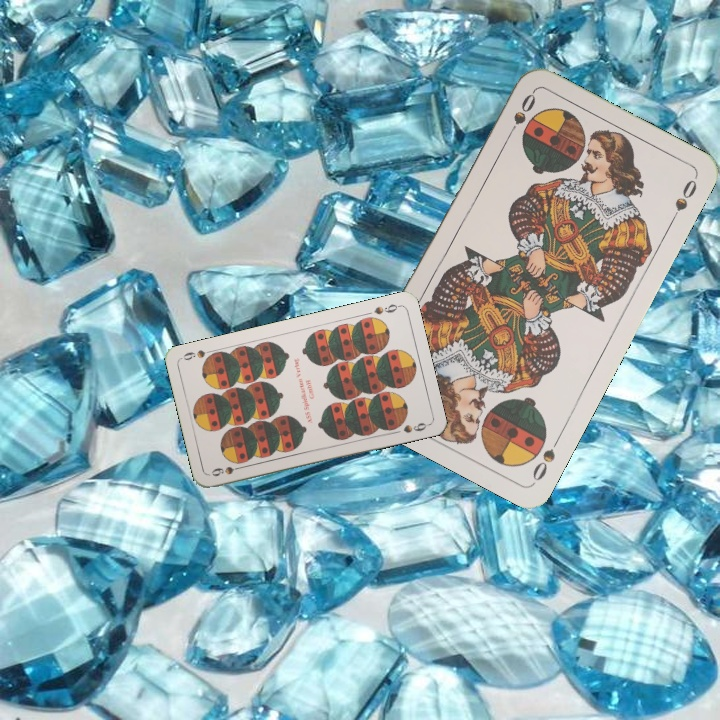S9: (207, 462, 247, 479), (370, 300, 403, 317)
SO: (502, 89, 539, 143), (528, 431, 564, 484)
